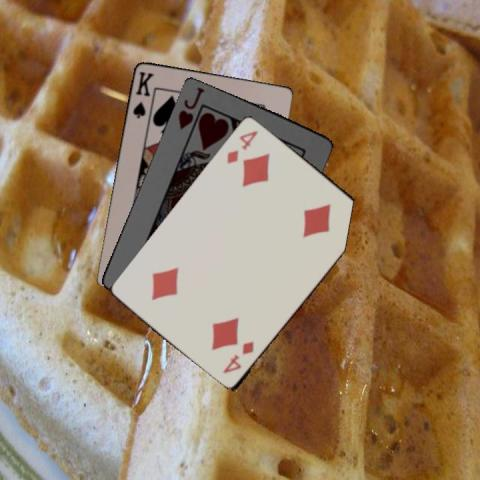4d: (224, 126, 260, 164), (220, 337, 256, 375)
Jh: (175, 83, 206, 131)
Ks: (130, 68, 156, 119)
